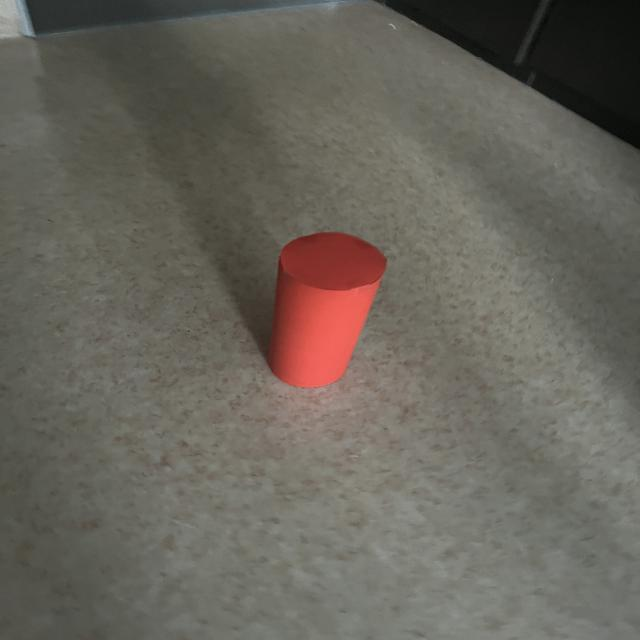przeszkoda: (269, 232, 386, 387)
